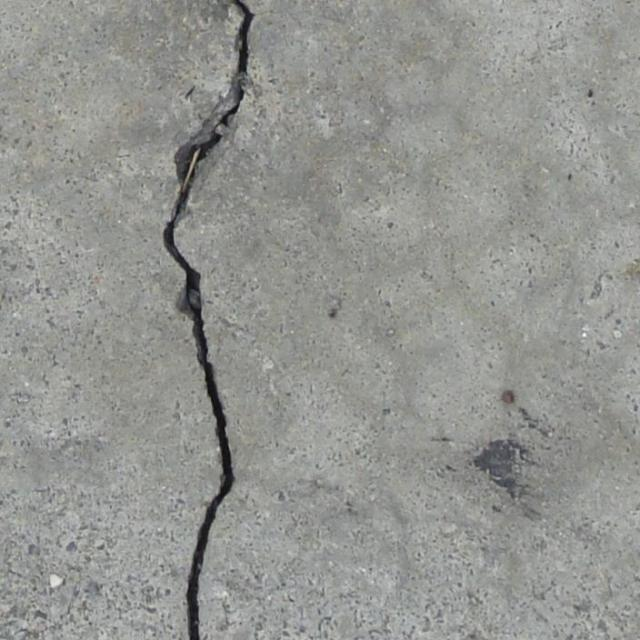vertical crack: (160, 0, 255, 639)
